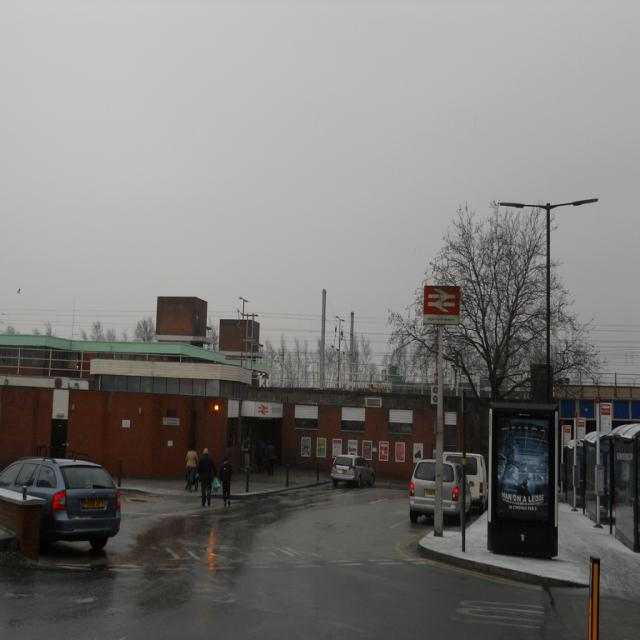car: (407, 459, 475, 523), (329, 451, 374, 489)
